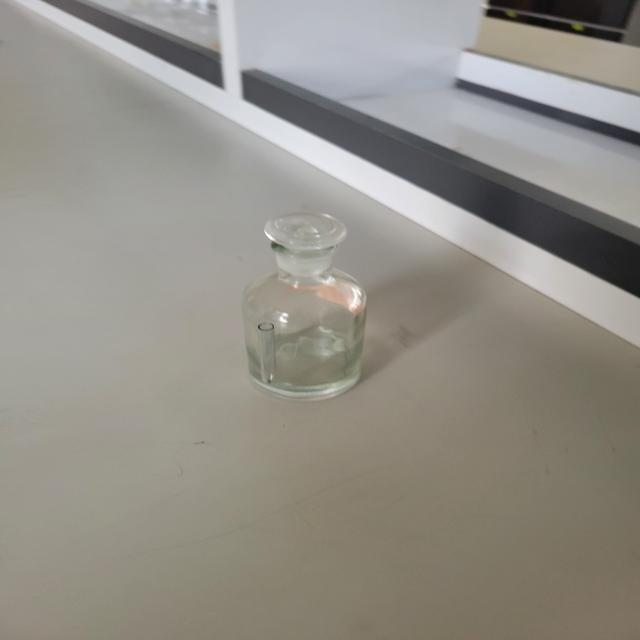Reagent_Bottle: (204, 200, 409, 438)
